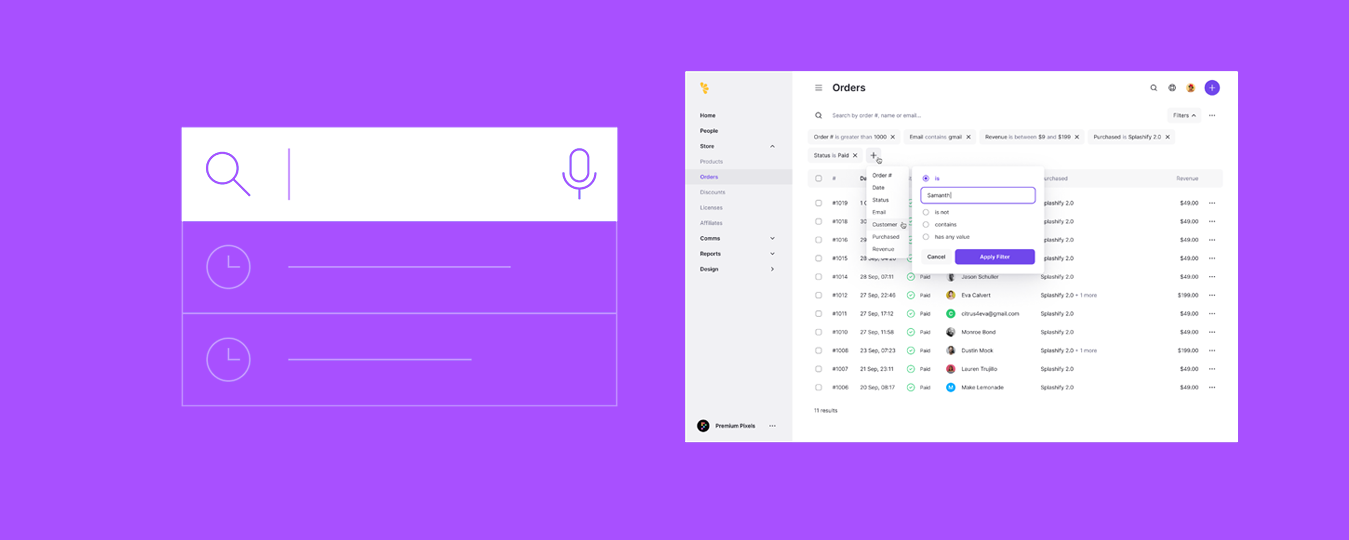search_box: (180, 126, 619, 219)
